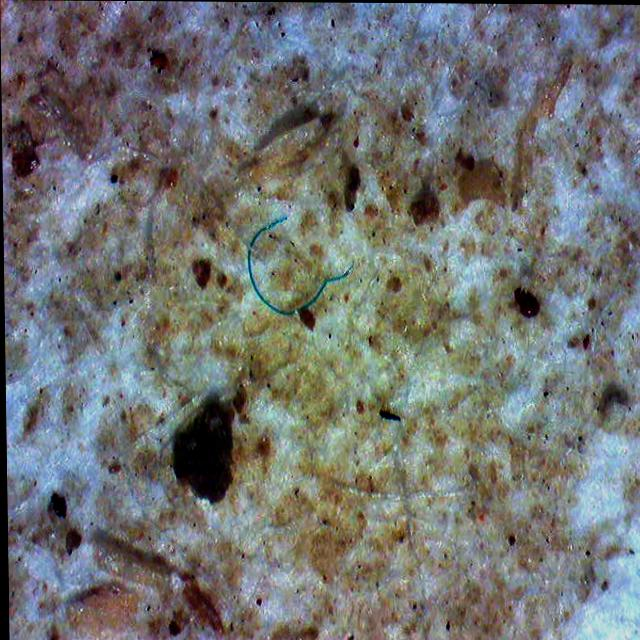microplastic: (223, 208, 354, 336)
